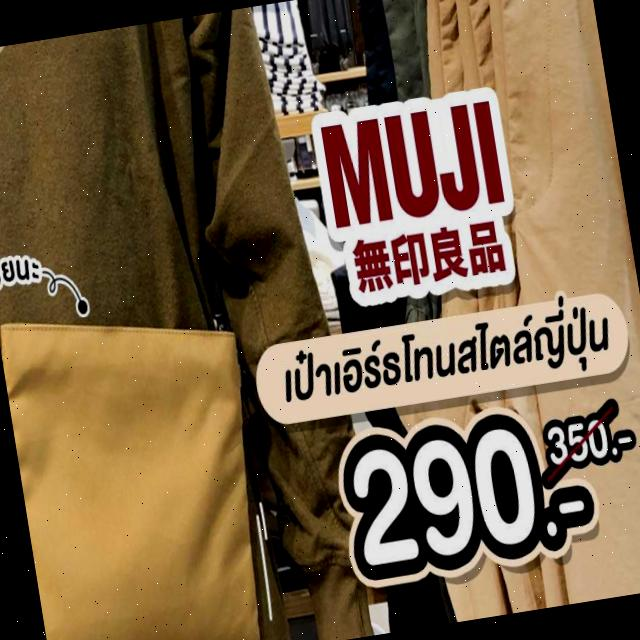Handbag: (0, 291, 296, 640)
